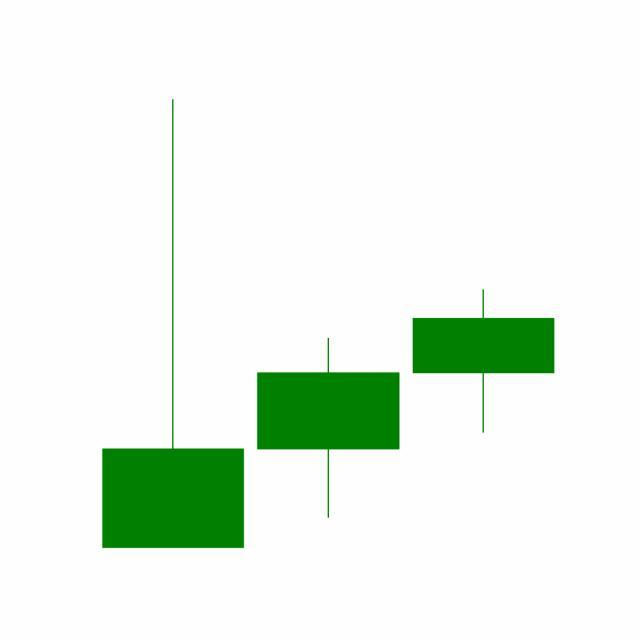Hanging Man: (406, 289, 562, 436)
